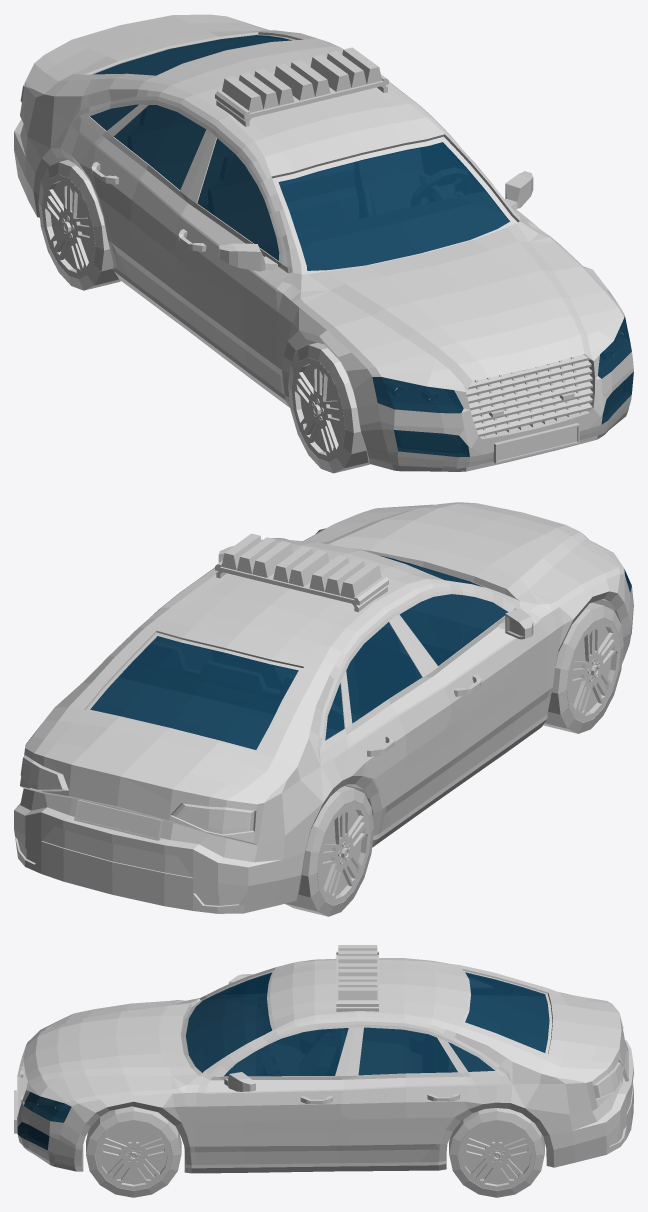
Rendered from police_car_fixed_wheels.fbx.
3 views of the same model, one above another, from view 1: azimuth 30°, elevation 25°; view 2: azimuth 150°, elevation 25°; view 3: azimuth 270°, elevation 25° (orthographic). The views are drawn at different scales.
Parts seen in each view (by area): view 1: police_car_fixed_wheels, policecar_glass.002; view 2: police_car_fixed_wheels, policecar_glass.002; view 3: police_car_fixed_wheels, policecar_glass.002.
Part boxes in pixels (bbox=[...]): police_car_fixed_wheels: bbox=[14, 14, 633, 473]; policecar_glass.002: bbox=[90, 35, 633, 457]; police_car_fixed_wheels: bbox=[14, 502, 633, 916]; policecar_glass.002: bbox=[90, 555, 631, 749]; police_car_fixed_wheels: bbox=[14, 945, 633, 1197]; policecar_glass.002: bbox=[17, 972, 549, 1150].
Bounding box in the file's own units: 294 × 226 × 697.
